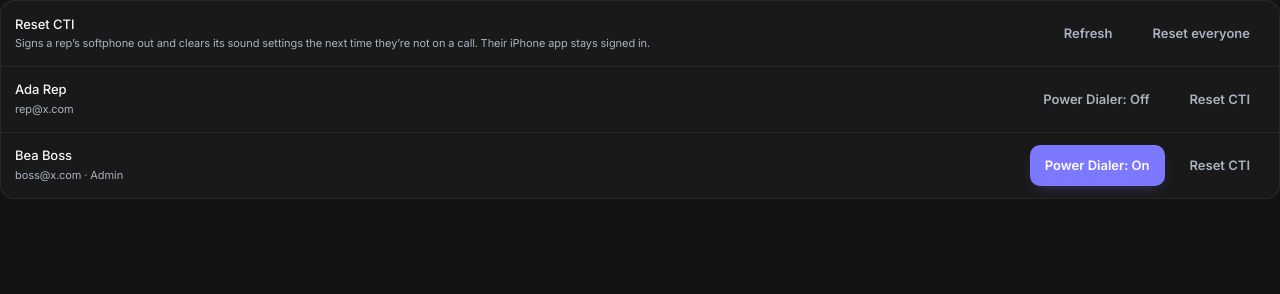
Test: TeamPanel — Reset CTI › confirming resets everyone, says how many, and reloads the list to show their status
The width and height of the screenshot is (1280, 294).
Click the button "Reset everyone" at {"x": 1201, "y": 33}, box [1138,13,1265,54]
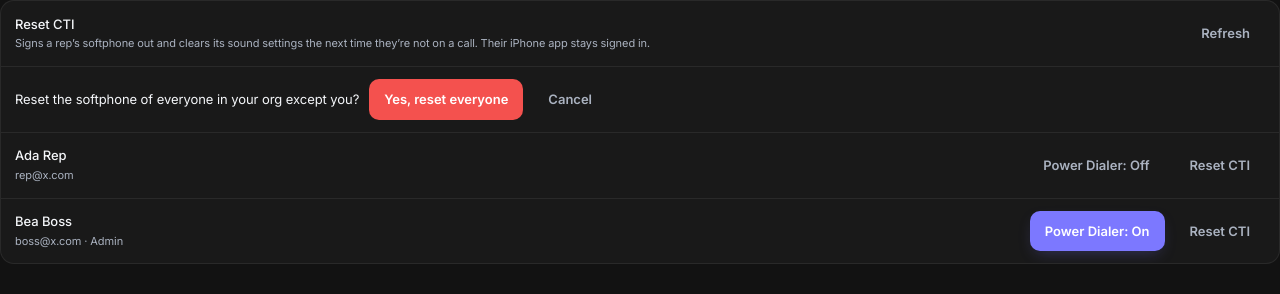
Click the button "Yes, reset everyone" at {"x": 446, "y": 99}, box [369,79,523,120]
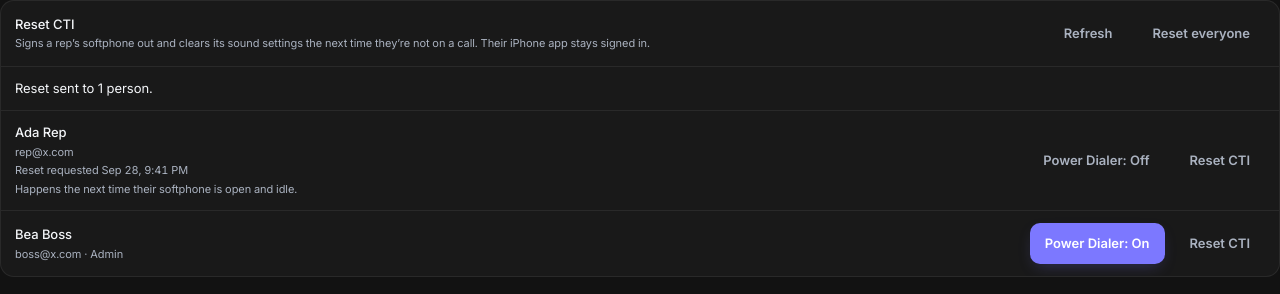
Expected: the text "Reset sent to 1 person." is shown, [15,79,153,98]
